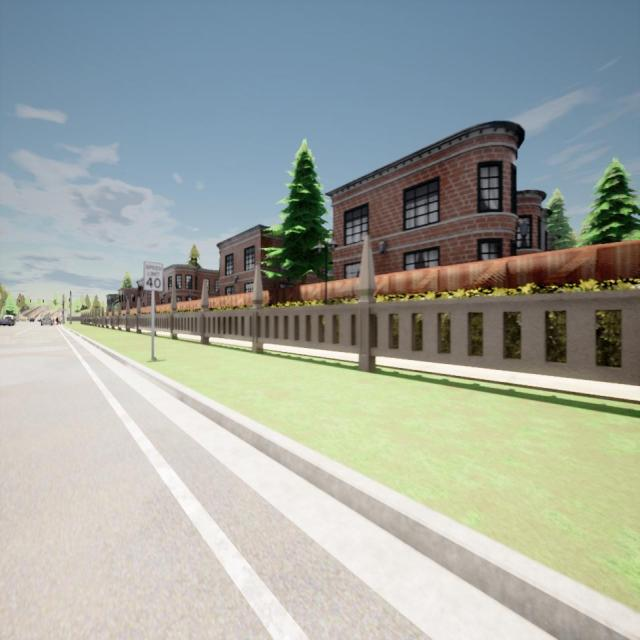Pedestrian: (56, 316, 59, 325)
Traffic_Signs: (143, 260, 163, 290)
Vehicle: (2, 315, 16, 325), (41, 316, 52, 326), (0, 318, 12, 326), (30, 318, 34, 322)
traffic_light: (62, 310, 64, 314), (30, 299, 31, 303), (43, 299, 44, 303)
